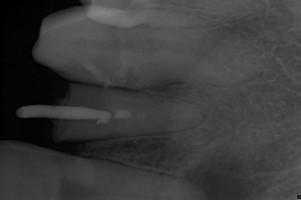Furcation Involvement: (179, 145, 254, 200)
